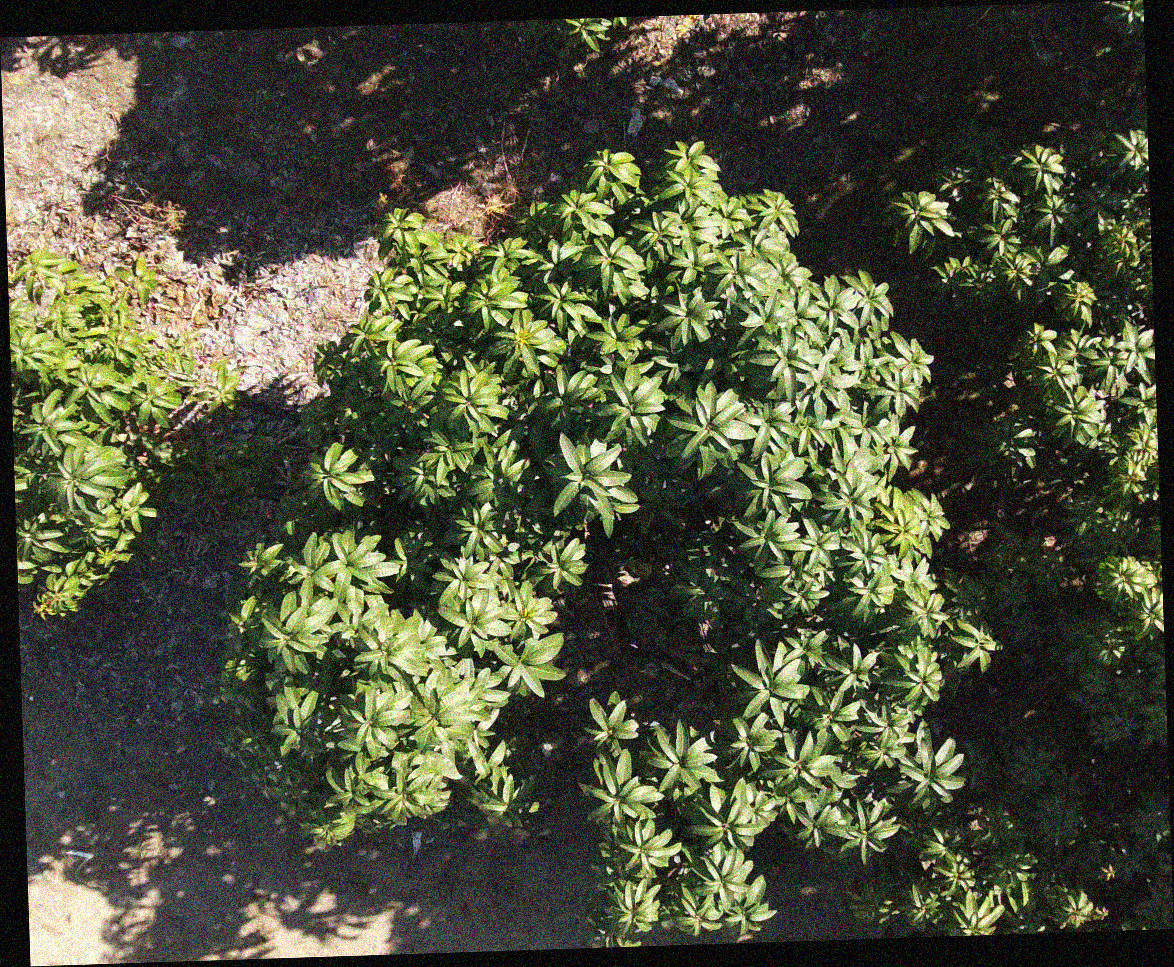flowers: (1057, 892, 1109, 928)
